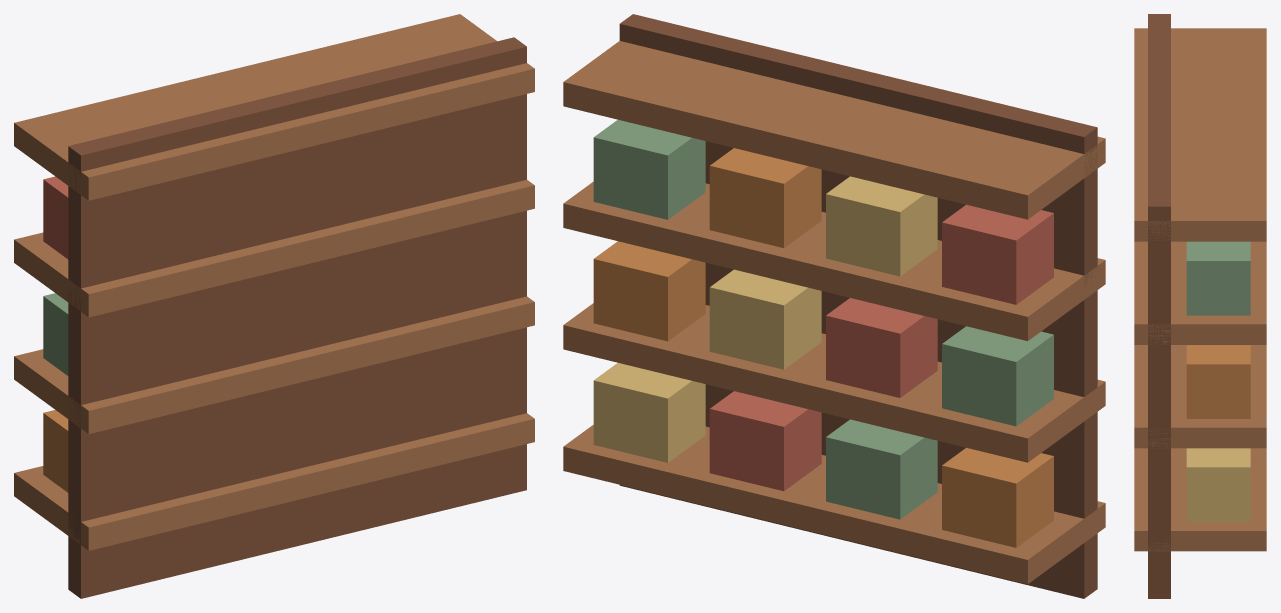
Rendered from grocery_shelf.glb.
3 renders of one model, left to right at view 1: azimuth 30°, elevation 25°; view 2: azimuth 150°, elevation 25°; view 3: azimuth 270°, elevation 25°, orthographic. The views are drawn at different scales.
Parts seen in each view (by area): view 1: _MeshInstance3D_202, _MeshInstance3D_208, _MeshInstance3D_206, _MeshInstance3D_207, _MeshInstance3D_205, _MeshInstance3D_209, _MeshInstance3D_210, _MeshInstance3D_211; view 2: _MeshInstance3D_208, _MeshInstance3D_202, _MeshInstance3D_205, _MeshInstance3D_206, _MeshInstance3D_207, _MeshInstance3D_209, _MeshInstance3D_210, _MeshInstance3D_211, _MeshInstance3D_216, _MeshInstance3D_220, _MeshInstance3D_217, _MeshInstance3D_218 (+5 smaller); view 3: _MeshInstance3D_208, _MeshInstance3D_202, _MeshInstance3D_207, _MeshInstance3D_206, _MeshInstance3D_205, _MeshInstance3D_218, _MeshInstance3D_220, _MeshInstance3D_219.
Boxes of the visible parts, box(x1,y1,x2,y2) form: _MeshInstance3D_202: box(68, 37, 526, 598); _MeshInstance3D_208: box(14, 14, 534, 200); _MeshInstance3D_206: box(14, 296, 534, 433); _MeshInstance3D_207: box(14, 180, 534, 317); _MeshInstance3D_205: box(14, 413, 534, 550); _MeshInstance3D_209: box(43, 410, 68, 492); _MeshInstance3D_210: box(43, 293, 68, 375); _MeshInstance3D_211: box(43, 176, 68, 259); _MeshInstance3D_208: box(563, 41, 1105, 219); _MeshInstance3D_202: box(619, 14, 1097, 598); _MeshInstance3D_205: box(563, 425, 1105, 584); _MeshInstance3D_206: box(563, 303, 1105, 462); _MeshInstance3D_207: box(563, 181, 1105, 340); _MeshInstance3D_209: box(942, 447, 1053, 547); _MeshInstance3D_210: box(942, 326, 1053, 426); _MeshInstance3D_211: box(942, 204, 1053, 304); _MeshInstance3D_216: box(709, 269, 821, 369); _MeshInstance3D_220: box(593, 119, 705, 219); _MeshInstance3D_217: box(709, 148, 821, 247); _MeshInstance3D_218: box(593, 363, 705, 462); _MeshInstance3D_208: box(1134, 28, 1266, 241); _MeshInstance3D_202: box(1148, 14, 1170, 598); _MeshInstance3D_207: box(1134, 241, 1266, 344); _MeshInstance3D_206: box(1134, 345, 1266, 448); _MeshInstance3D_205: box(1134, 448, 1266, 551); _MeshInstance3D_218: box(1186, 448, 1250, 522); _MeshInstance3D_220: box(1186, 241, 1250, 315); _MeshInstance3D_219: box(1186, 345, 1250, 418).
Size of the model in its own units: 2 by 1.9 by 0.58.
